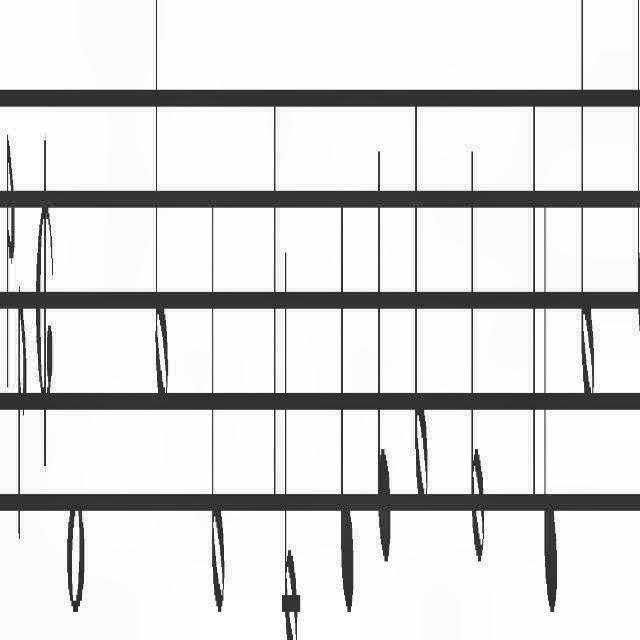Bemol: (2, 61, 15, 400), (14, 268, 28, 578)
Full-note: (66, 480, 86, 624)
Half-note: (576, 0, 604, 438), (468, 123, 487, 624), (278, 208, 300, 640), (211, 163, 228, 640), (413, 104, 431, 530), (152, 0, 168, 444)
Quarter-note: (374, 106, 394, 590), (542, 135, 558, 630), (340, 175, 356, 633), (632, 1, 640, 371)
